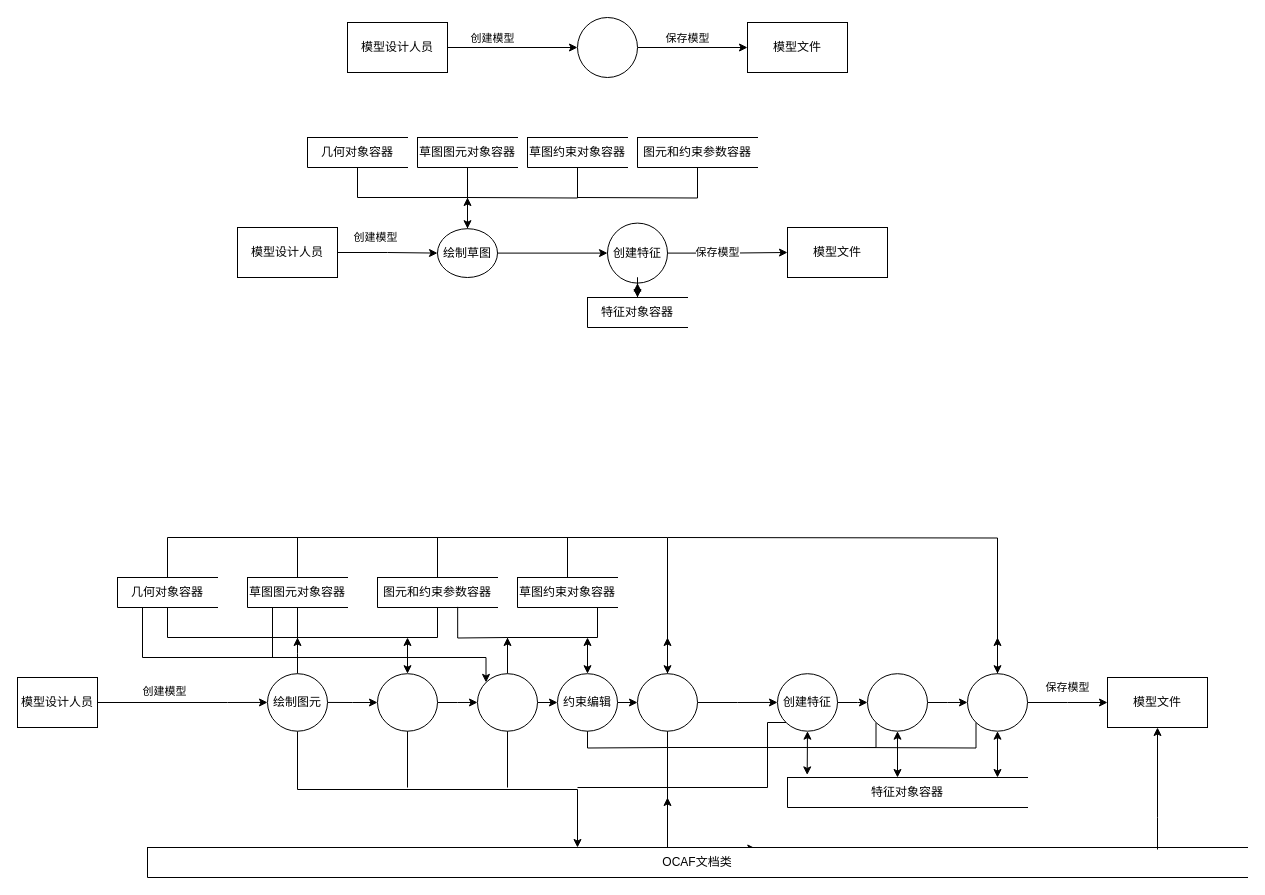
This 1265x895 diagram has some shape labels left out. Here are the shapes that lost their labels. From the top down, the box of each, then its label:
(576, 16, 638, 78): 特征造型系统
(376, 673, 438, 731): 图元编辑
(476, 673, 538, 731): 添加约束
(636, 673, 698, 731): 草图撤销/重做
(866, 673, 928, 731): 特征编辑
(966, 673, 1028, 731): 撤销/重做
